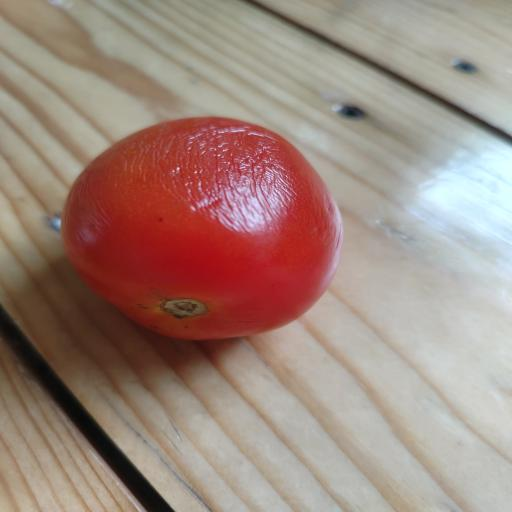spoiled: (61, 118, 342, 339)
